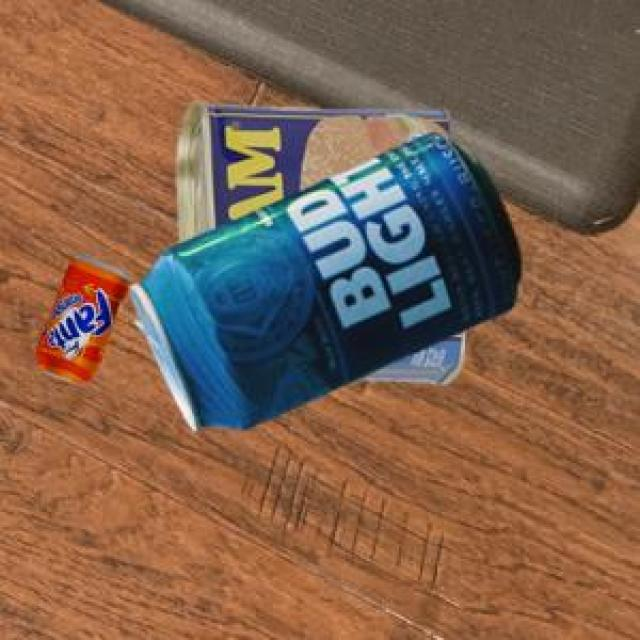logam: (127, 129, 517, 428), (174, 99, 461, 381), (33, 253, 127, 381)
